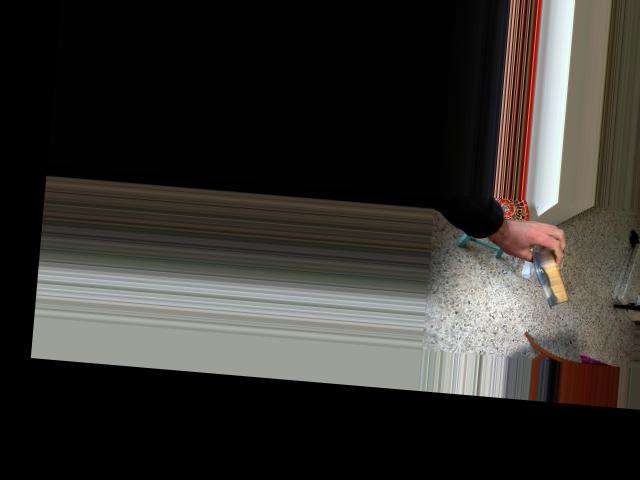cheese: (511, 213, 595, 314)
